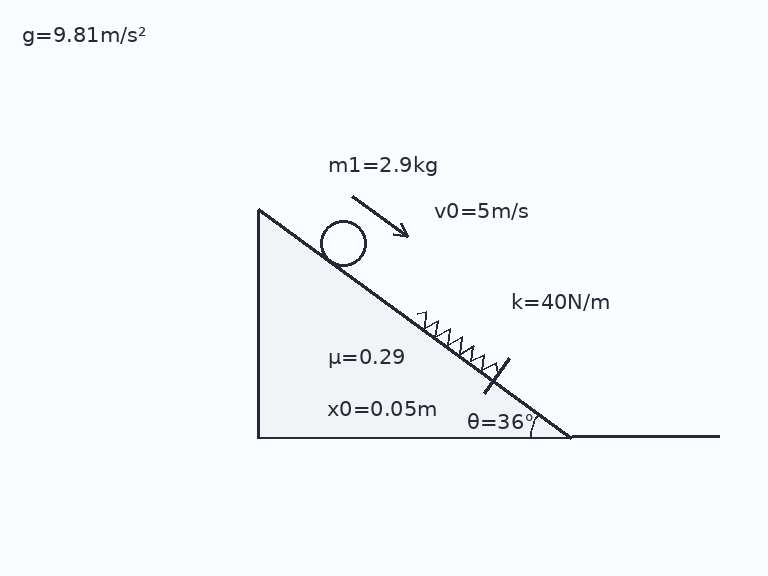ball: (318, 218, 368, 268)
ramp: (256, 208, 573, 439)
spring: (415, 310, 500, 375)
